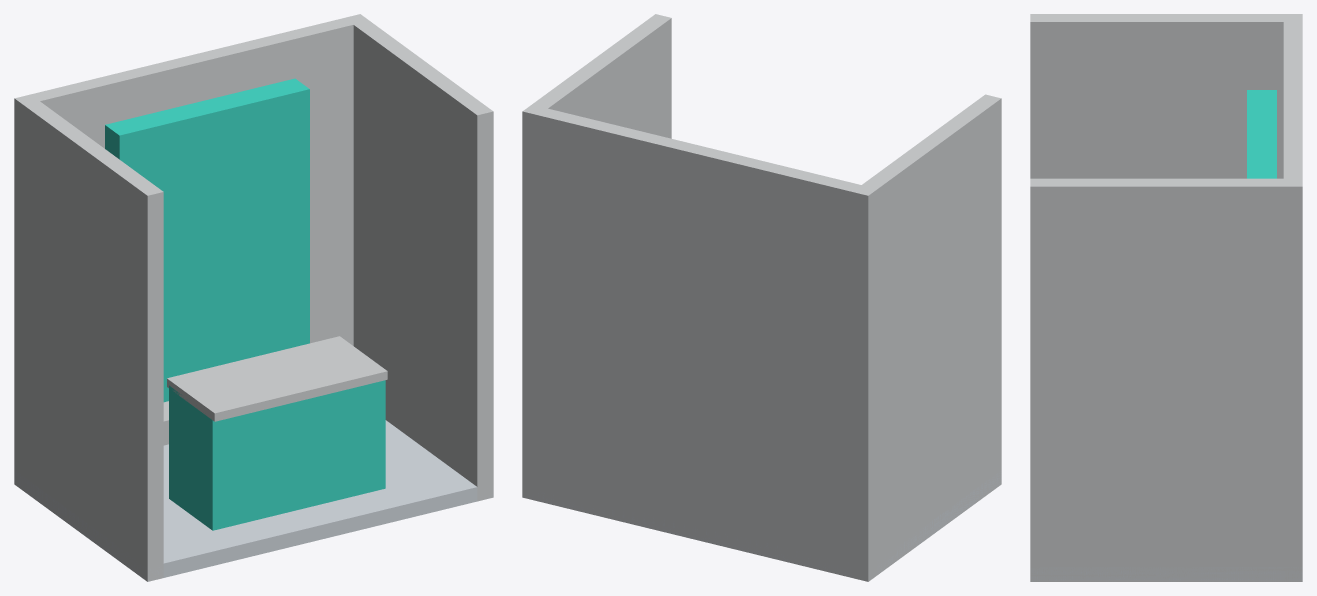
3 renders of one model, left to right at view 1: azimuth 30°, elevation 25°; view 2: azimuth 150°, elevation 25°; view 3: azimuth 270°, elevation 25°, orthographic. The views are drawn at different scales.
Parts seen in each view (by area): view 1: Exhibition Booth Concept; view 2: Exhibition Booth Concept; view 3: Exhibition Booth Concept.
Part boxes in pixels (x1,y1,x2,y2): Exhibition Booth Concept: (14,14,493,581); Exhibition Booth Concept: (522,14,1001,581); Exhibition Booth Concept: (1030,14,1302,581).
Bounding box in the file's own units: 3 × 3.2 × 2.
